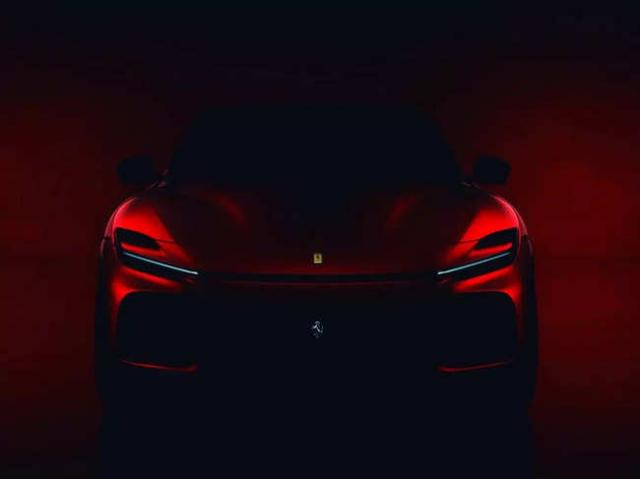ferrari: (94, 102, 540, 428)
